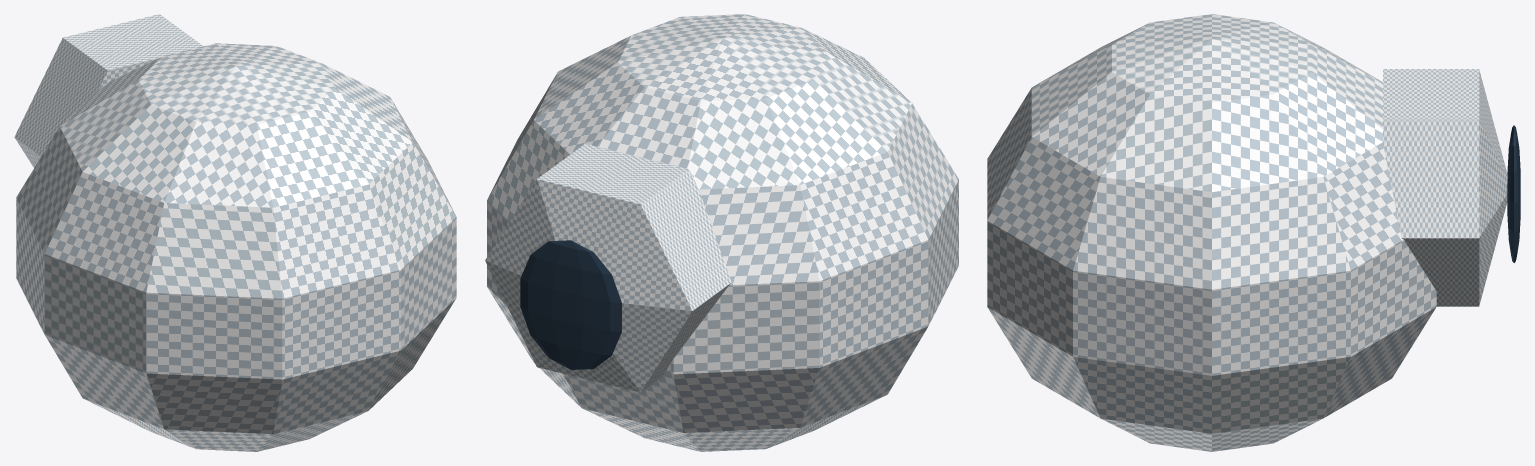
File: Igloo.glb
3 renders of one model, left to right at view 1: azimuth 30°, elevation 25°; view 2: azimuth 150°, elevation 25°; view 3: azimuth 270°, elevation 25°, orthographic. The views are drawn at different scales.
Parts seen in each view (by area): view 1: Igloo; view 2: Igloo; view 3: Igloo.
Part boxes in pixels (bbox=[...]): Igloo: bbox=[14, 14, 456, 451]; Igloo: bbox=[485, 14, 958, 451]; Igloo: bbox=[987, 14, 1520, 451].
Size of the model in its own units: 3.31 by 3 by 3.74.
1 material, 1 textured.
